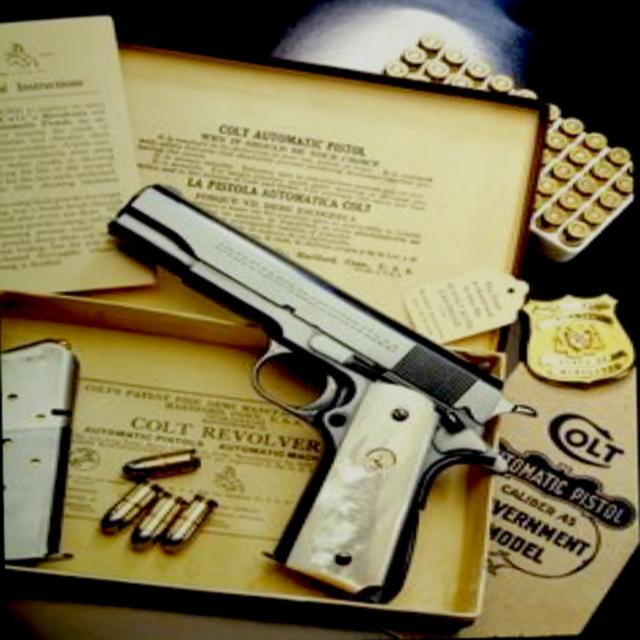semi automatic: (94, 148, 518, 620)
